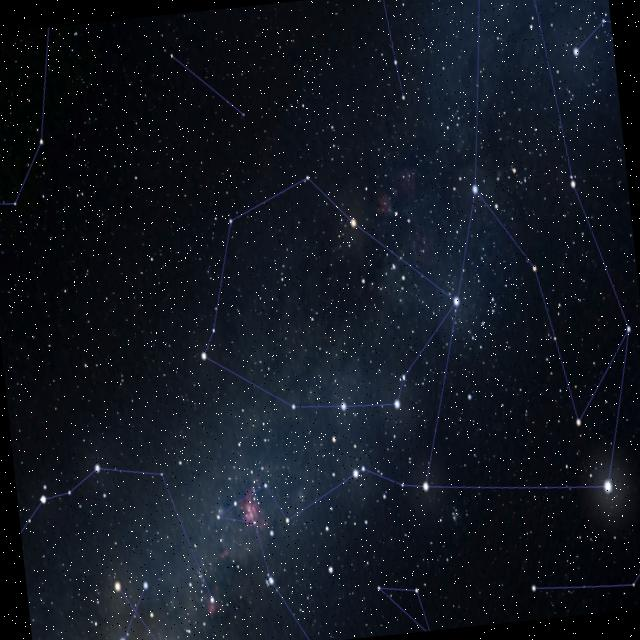Vela: (142, 150, 476, 450)
